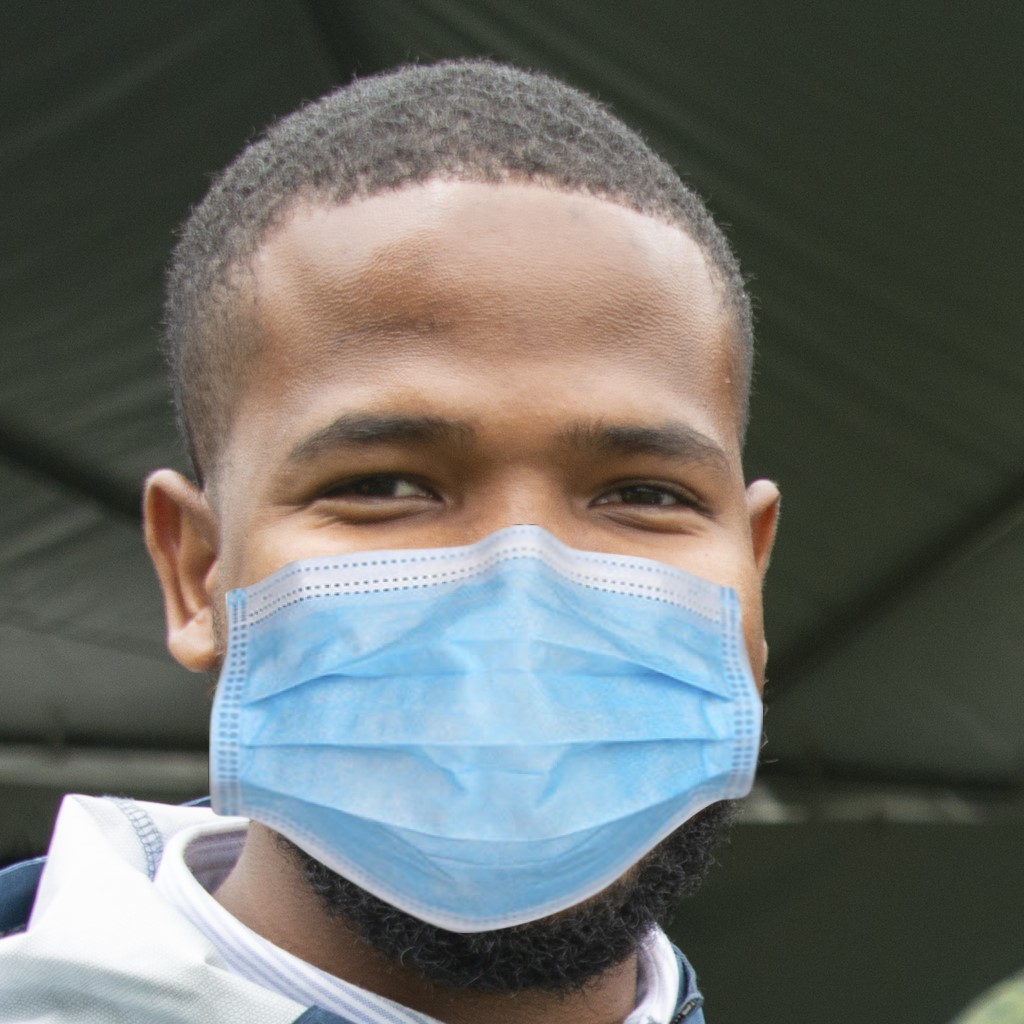con_mascara: (168, 175, 775, 979)
